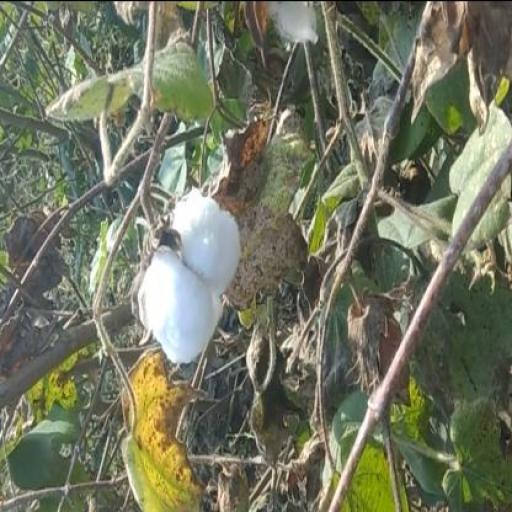cotton_ready: (132, 175, 247, 412)
